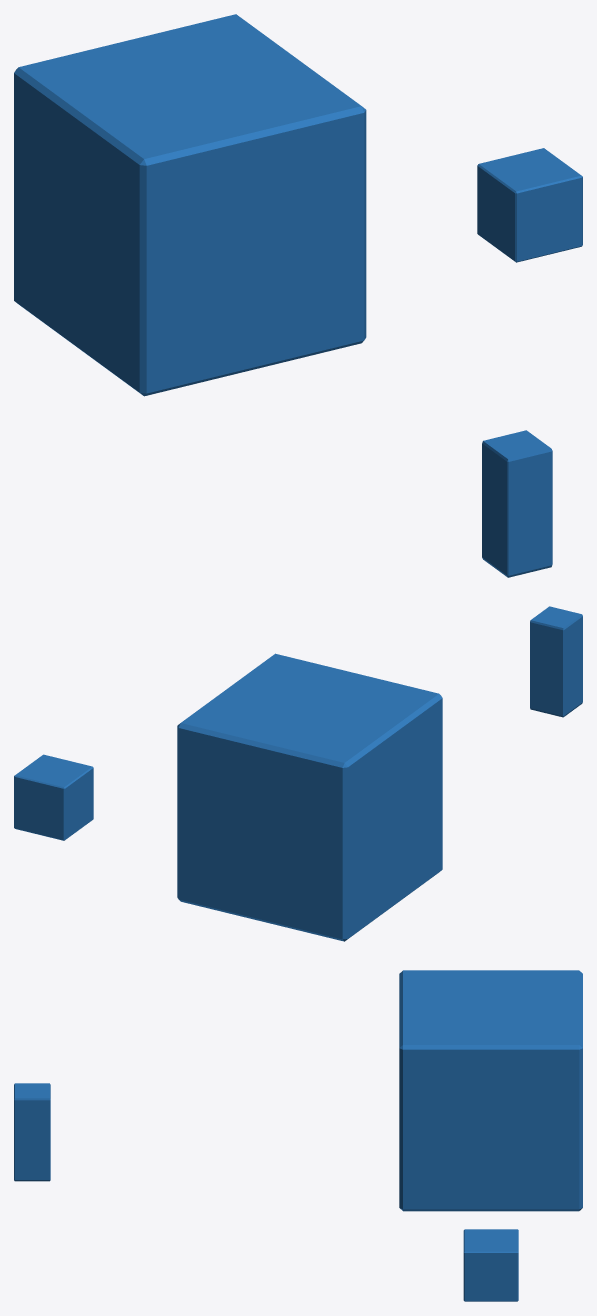
File: coordinate-probe.glb
3 renders of one model, top to bottom at view 1: azimuth 30°, elevation 25°; view 2: azimuth 150°, elevation 25°; view 3: azimuth 270°, elevation 25°, orthographic. The views are drawn at different scales.
Parts seen in each view (by area): view 1: Origin, SourcePlusX, SourcePlusZ; view 2: Origin, SourcePlusX, SourcePlusZ; view 3: Origin, SourcePlusX, SourcePlusZ.
Boxes of the visible parts, x1,y1,x2,y2 form: Origin: (14,14,366,396); SourcePlusX: (477,148,582,262); SourcePlusZ: (482,430,552,577); Origin: (177,653,442,941); SourcePlusX: (14,754,93,840); SourcePlusZ: (530,606,582,717); Origin: (399,970,582,1211); SourcePlusX: (463,1229,518,1301); SourcePlusZ: (14,1083,50,1181).
Size of the model in its own units: 4.3 by 2 by 6.2.
